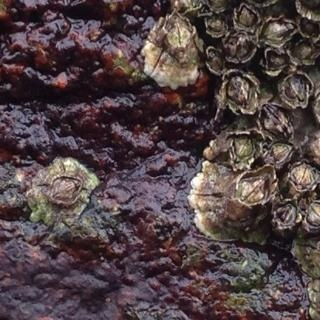Barnacle: (260, 102, 293, 140), (224, 75, 256, 109), (237, 172, 270, 204), (260, 20, 296, 48), (222, 29, 251, 63), (162, 16, 190, 50), (288, 161, 317, 193), (48, 177, 83, 200), (283, 78, 310, 104), (230, 135, 255, 162), (292, 41, 317, 65), (266, 146, 293, 168), (265, 52, 290, 74), (276, 203, 297, 227), (205, 14, 227, 35), (299, 19, 320, 40), (204, 49, 223, 71), (239, 6, 256, 29), (307, 200, 320, 230), (310, 86, 311, 87)
